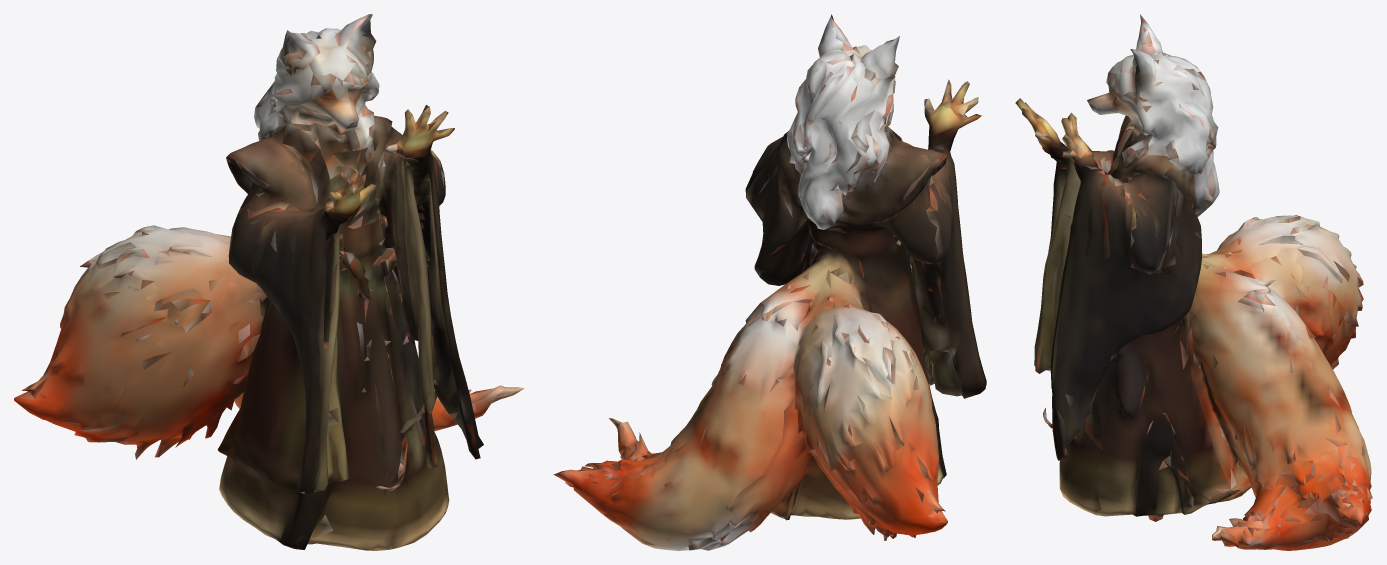
File: Trin_final.glb
3 views of the same model, side by side, from view 1: azimuth 30°, elevation 25°; view 2: azimuth 150°, elevation 25°; view 3: azimuth 270°, elevation 25° (orthographic). The views are drawn at different scales.
Parts seen in each view (by area): view 1: Mesh1.0; view 2: Mesh1.0; view 3: Mesh1.0.
Part boxes in pixels (<box>): Mesh1.0: <box>14,14,524,550</box>; Mesh1.0: <box>553,14,986,550</box>; Mesh1.0: <box>1015,14,1372,550</box>.
Size of the model in its own units: 1.59 by 1.8 by 1.25.
1 material, 1 textured.
